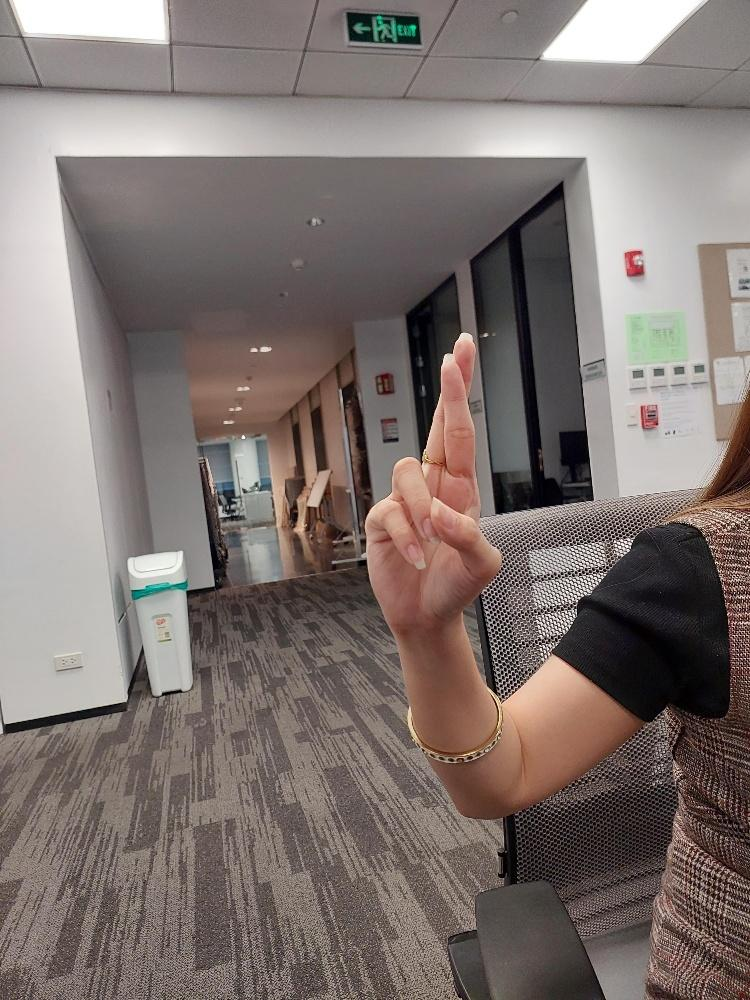r: (360, 326, 506, 639)
